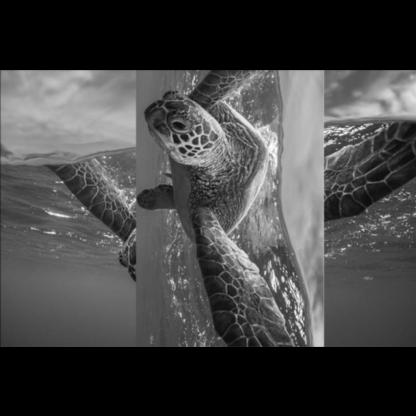turtle: (88, 69, 368, 339)
